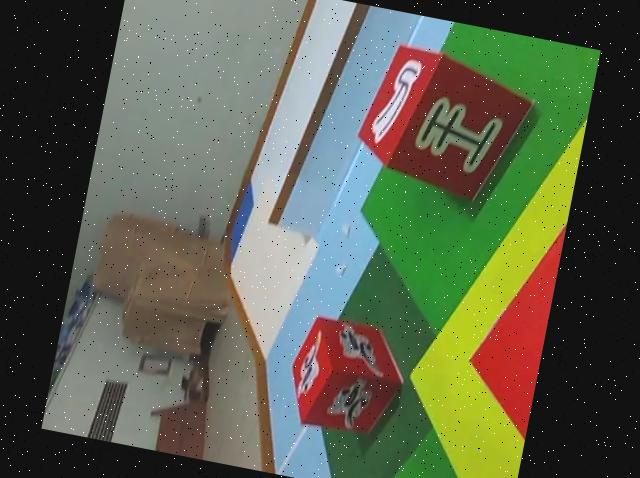R1: (277, 309, 413, 444)
R2 Fake: (345, 35, 543, 213)
